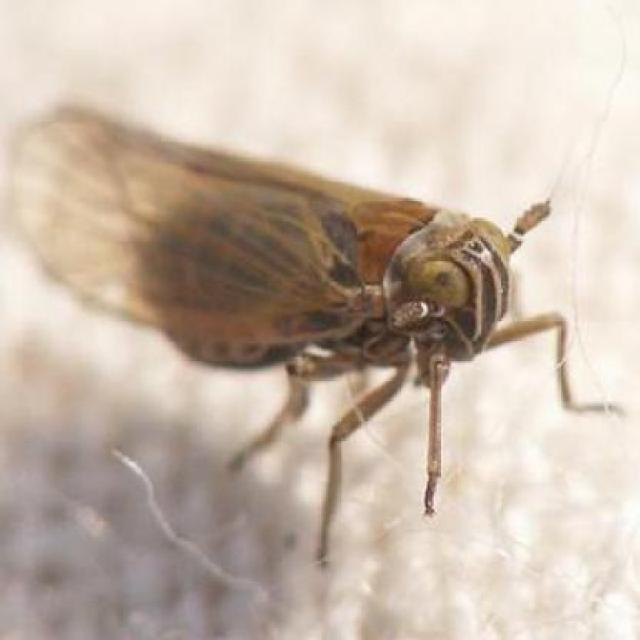brown-planthopper: (6, 91, 546, 414)
